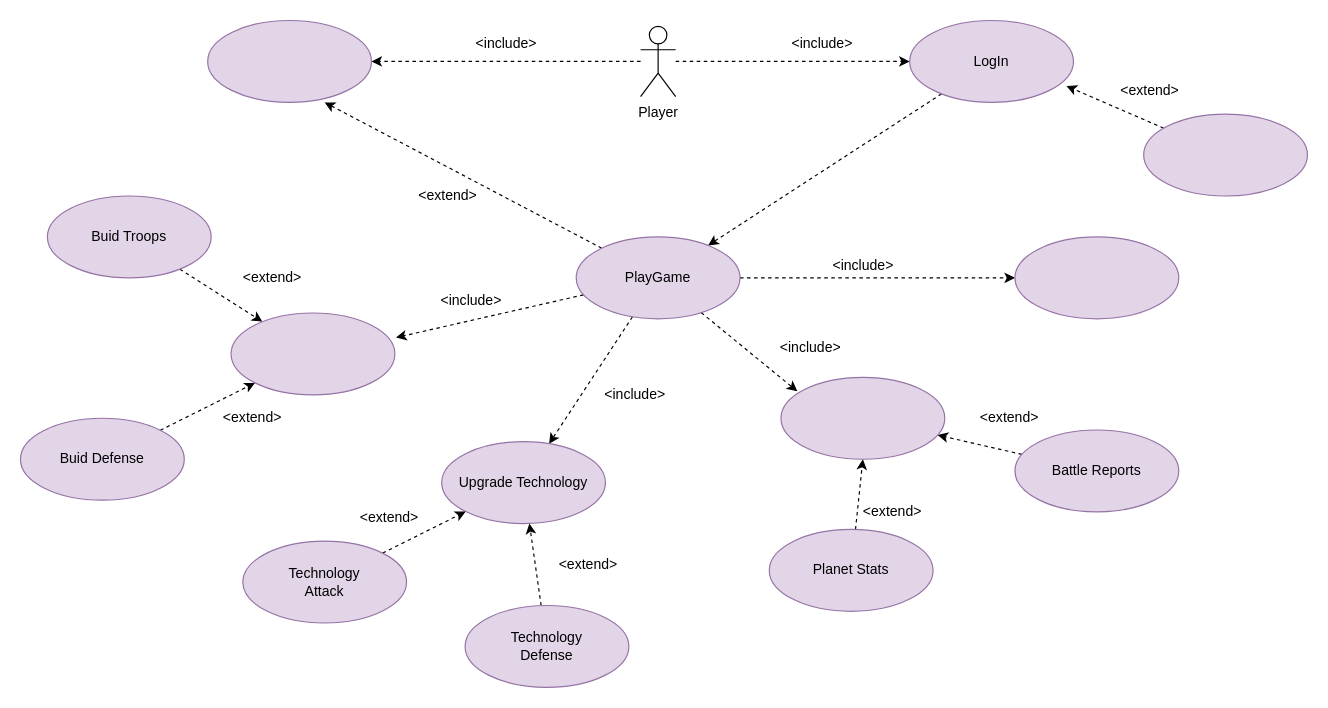
The diagram is 1328 pixels wide and 708 high, and some of its shapes have lost their labels. Each missing label, with the box of its shape:
Battle: (1014, 236, 1179, 319)
Buid: (230, 312, 395, 395)
Exit: (207, 19, 371, 102)
Register: (1143, 113, 1307, 196)
View: (780, 376, 945, 459)
